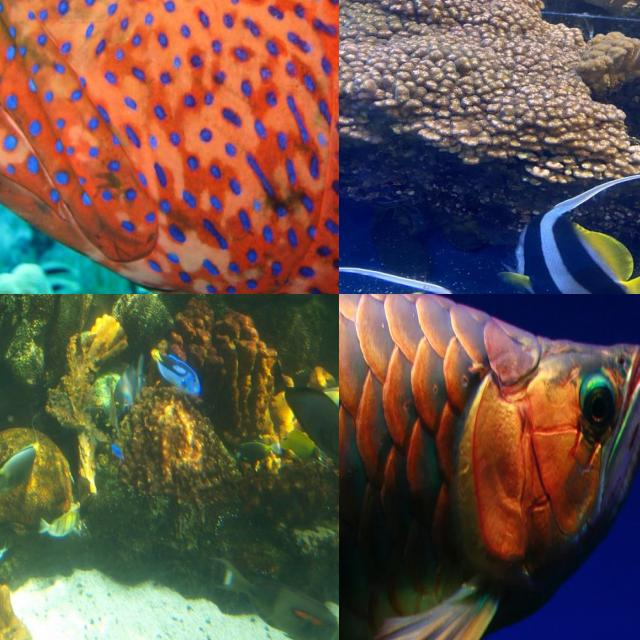fish: (339, 294, 640, 640), (0, 0, 339, 294)
